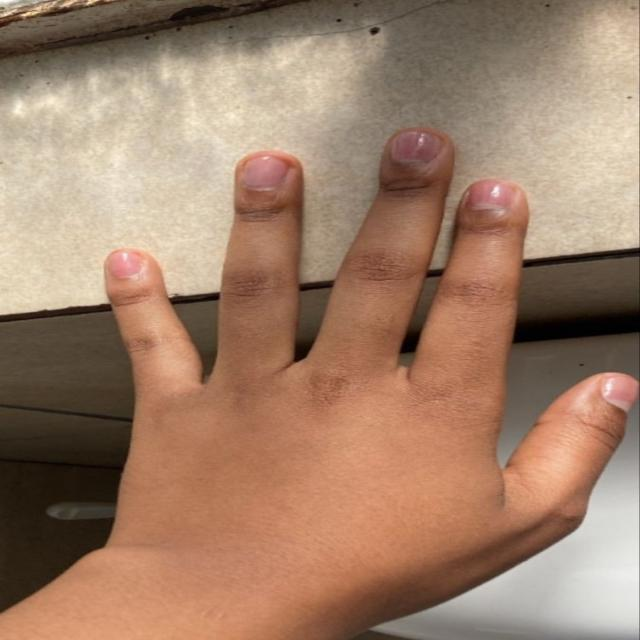Fingernail: (391, 132, 444, 163), (468, 179, 515, 210), (603, 375, 639, 413), (243, 157, 287, 187), (108, 252, 143, 280)
